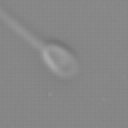normal: (1, 5, 43, 46)
